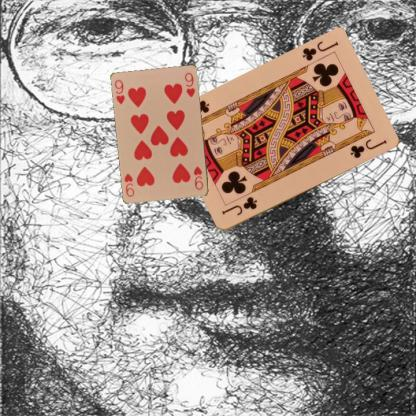9h: (112, 77, 126, 106), (191, 164, 205, 191)
Jc: (299, 39, 340, 63), (219, 194, 259, 217)
